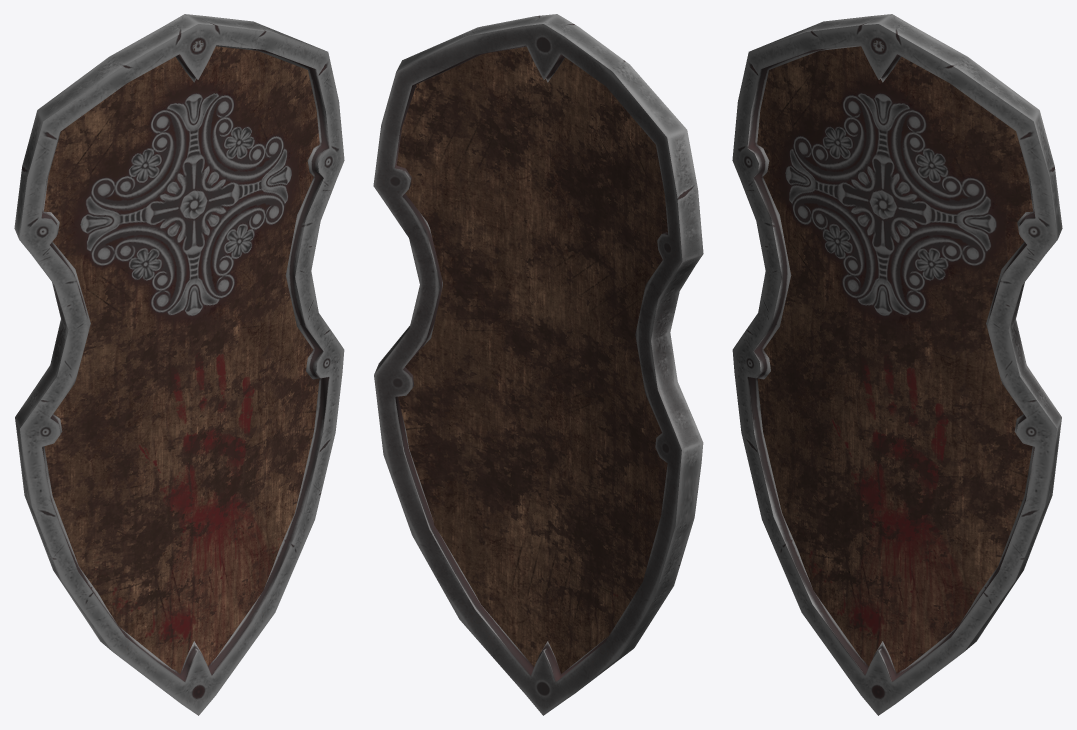
The model's file is warrior_shield.glb.
The picture shows the model from 3 angles, left to right: view 1: azimuth 30°, elevation 25°; view 2: azimuth 150°, elevation 25°; view 3: azimuth 330°, elevation 25°; orthographic projection.
Visible parts, largest first — view 1: Object002_02 - Default_0, Fin002_ToLow; view 2: Object002_02 - Default_0, Fin002_ToLow; view 3: Object002_02 - Default_0, Fin002_ToLow.
Part boxes in pixels (x1,y1,x2,y2): Object002_02 - Default_0: (44,46,319,673); Fin002_ToLow: (14,14,344,715); Object002_02 - Default_0: (396,47,667,673); Fin002_ToLow: (373,14,703,715); Object002_02 - Default_0: (757,46,1032,673); Fin002_ToLow: (732,14,1062,715).
Size of the model in its own units: 99.38 by 202 by 15.78.
Materials: 1 (1 with a texture image).
